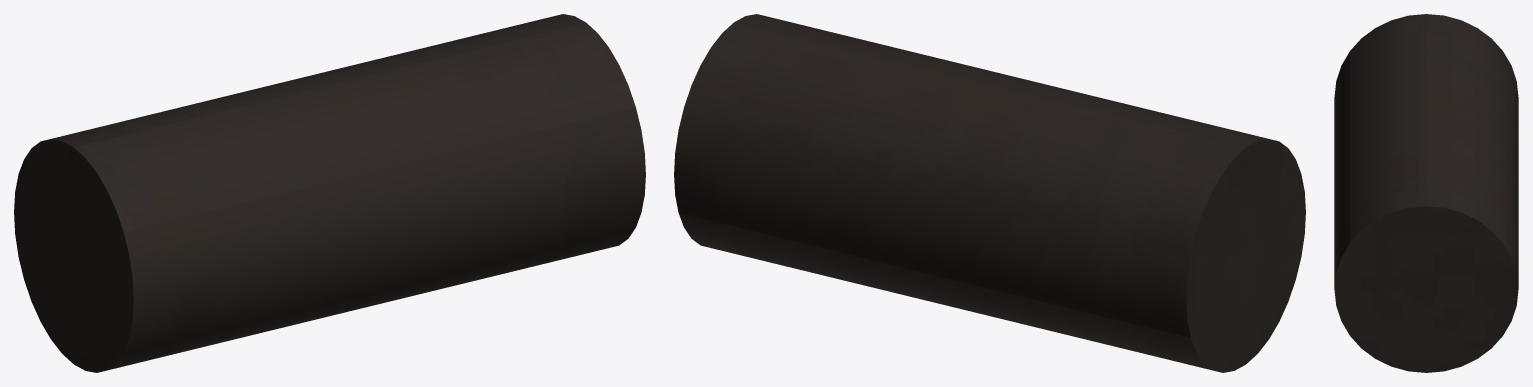
The model's file is wheel_0__axle_sleeve.glb.
3 renders of one model, left to right at view 1: azimuth 30°, elevation 25°; view 2: azimuth 150°, elevation 25°; view 3: azimuth 270°, elevation 25°, orthographic. The views are drawn at different scales.
Visible parts, largest first — view 1: world; view 2: world; view 3: world.
Boxes of the visible parts, <box> form: world: <box>14,14,645,372</box>; world: <box>674,14,1305,372</box>; world: <box>1334,14,1518,372</box>.
Size of the model in its own units: 0.042 by 0.017 by 0.017.
Materials: 1 (1 with a texture image).
